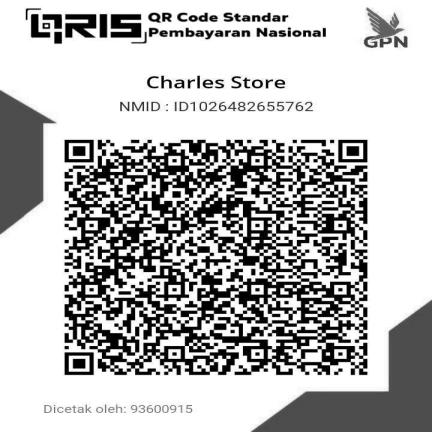Dicetak Oleh: (38, 399, 202, 416)
Logo GPN: (354, 3, 421, 52)
Logo dan deskripsi QRIS: (12, 5, 336, 47)
Nama Merchant: (138, 71, 302, 94)
National Merchant ID: (111, 98, 319, 117)
QR Code: (44, 125, 388, 389)
